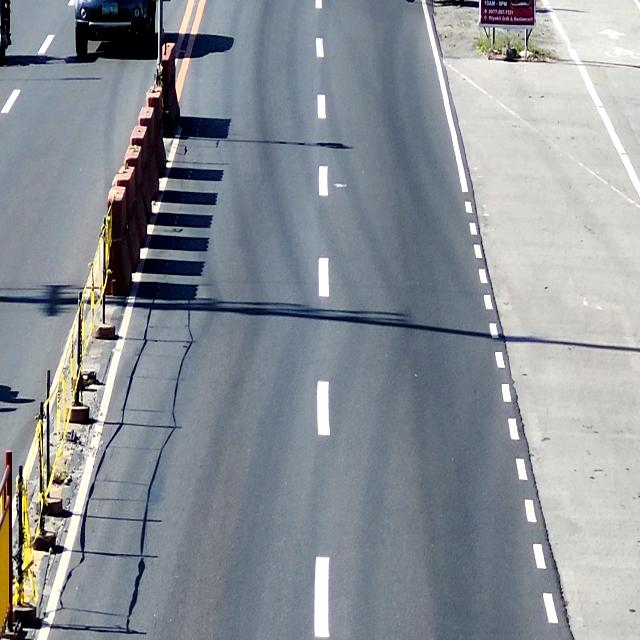Car: (74, 0, 159, 62)
License-Plate: (98, 0, 122, 18)
